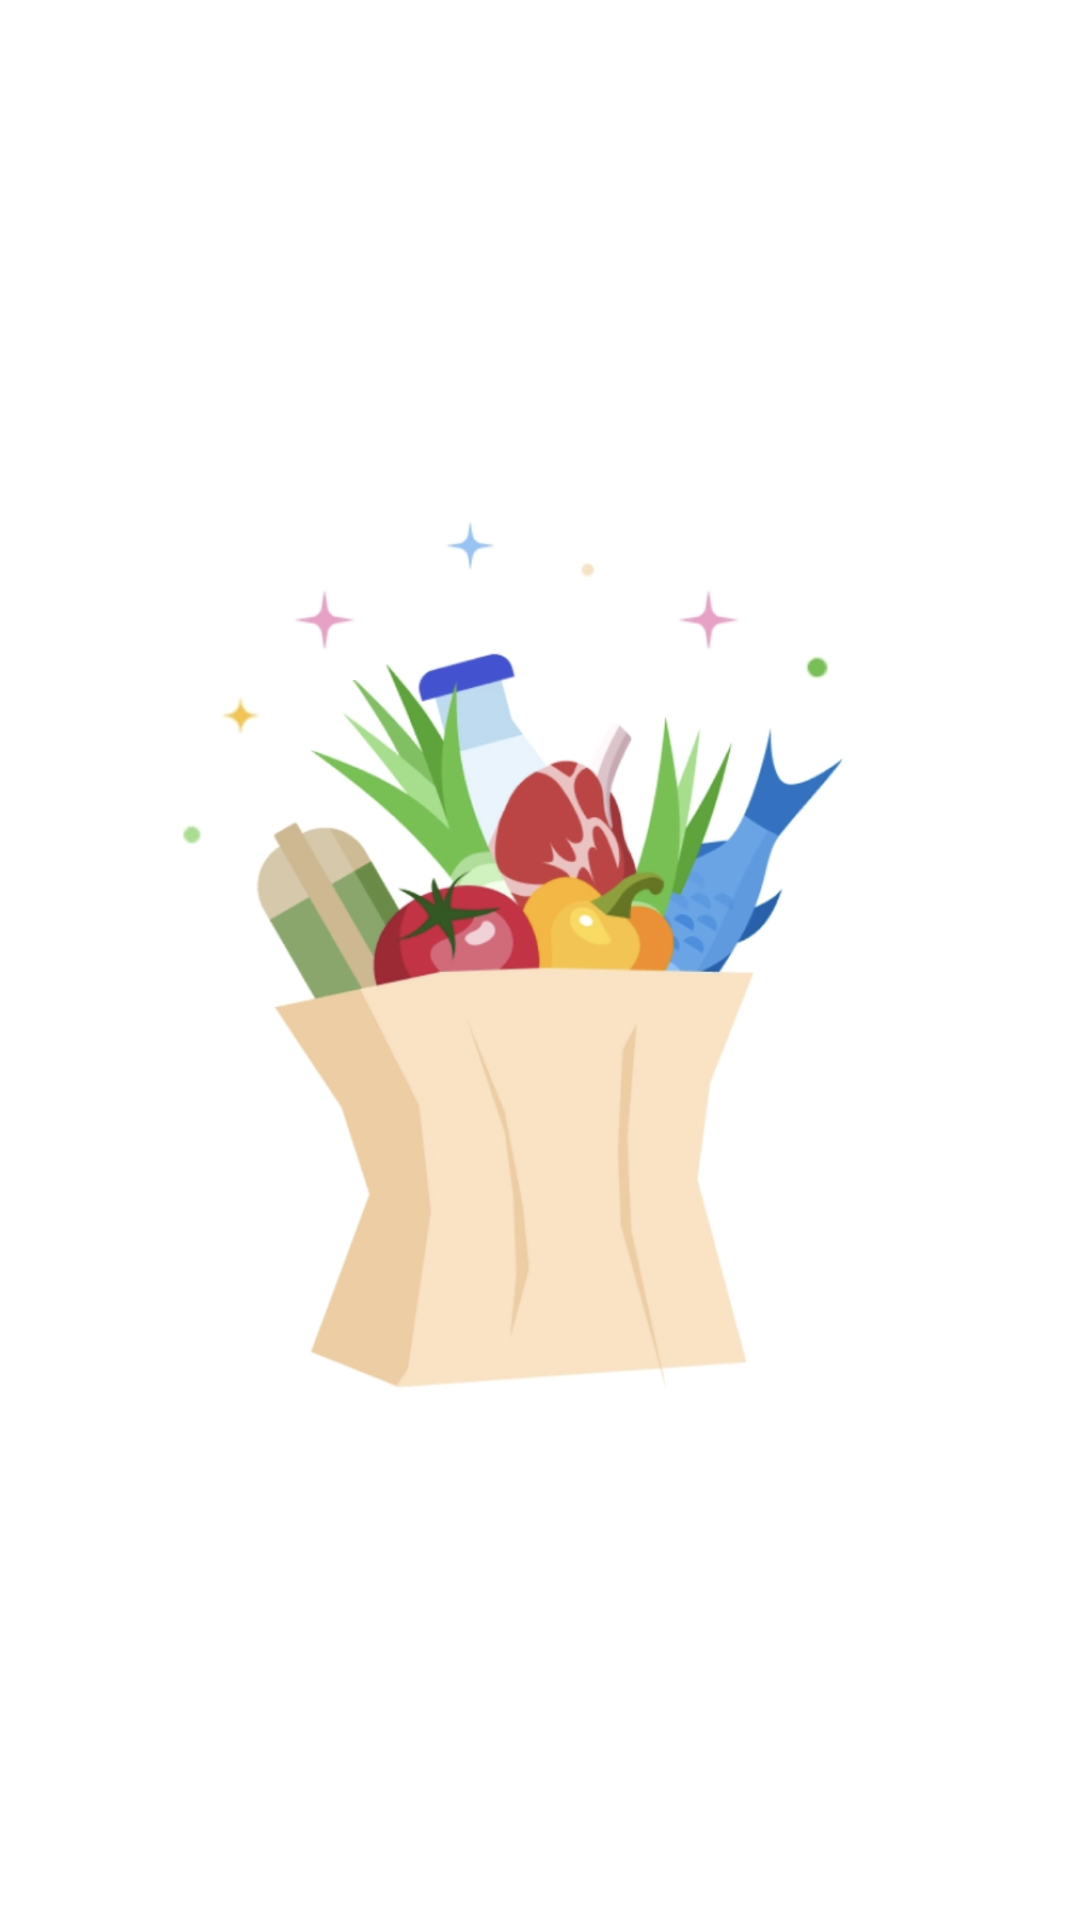

Named icons in this screenshot (1080 x 1920) and their bounding boxes, (x1, y1, x2, y2):
spark: (448, 523, 493, 568), (297, 592, 353, 648), (681, 592, 737, 648), (223, 698, 258, 733)
